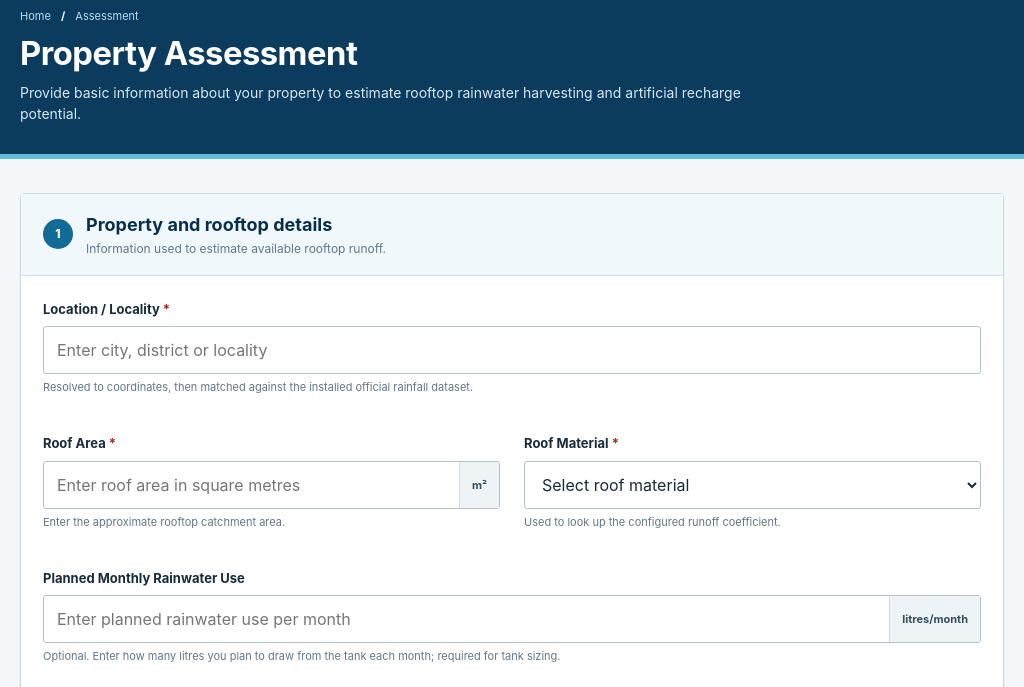
Test: property assessment form › shows a safe message when the API request fails
In the field labelled "Location / Locality *": coordinates (512, 350) [43, 326, 981, 374], type "Bengaluru"
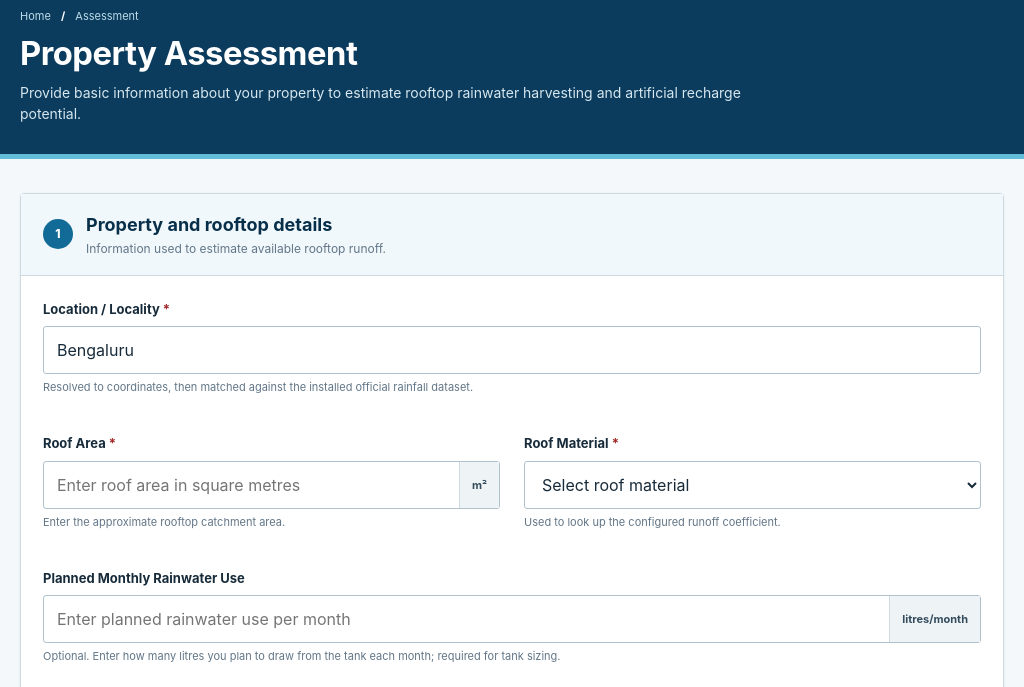
In the number field labelled "Roof Area *": coordinates (272, 485) [43, 461, 500, 509], type "120"
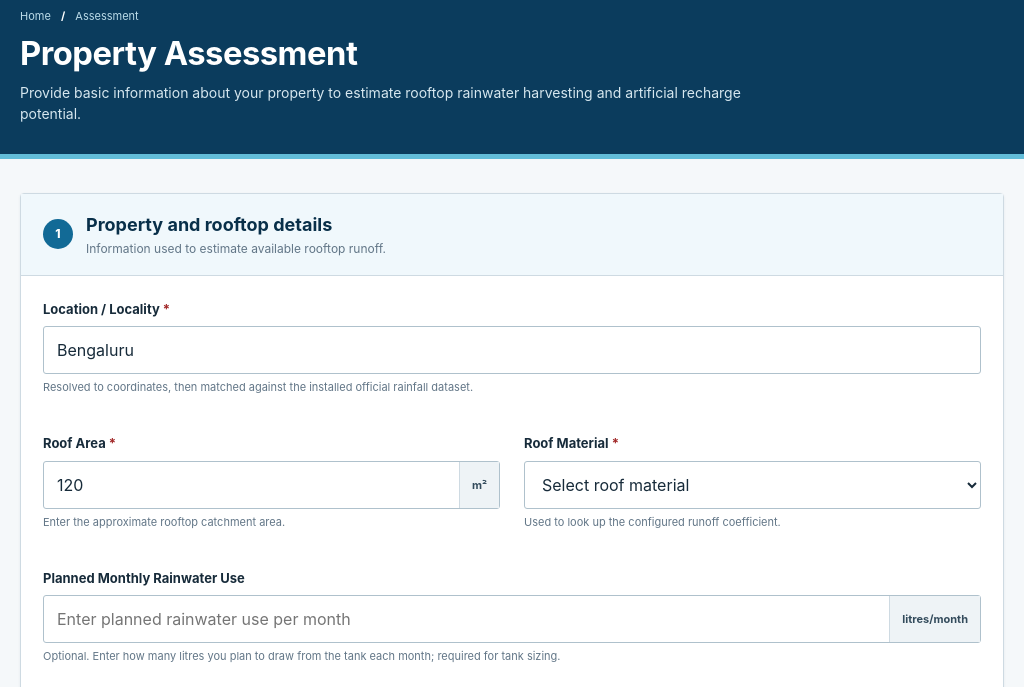
Select "RCC / Concrete" in the dropdown labelled "Roof Material *": coordinates (752, 485) [524, 461, 981, 509]
(page scrolled)
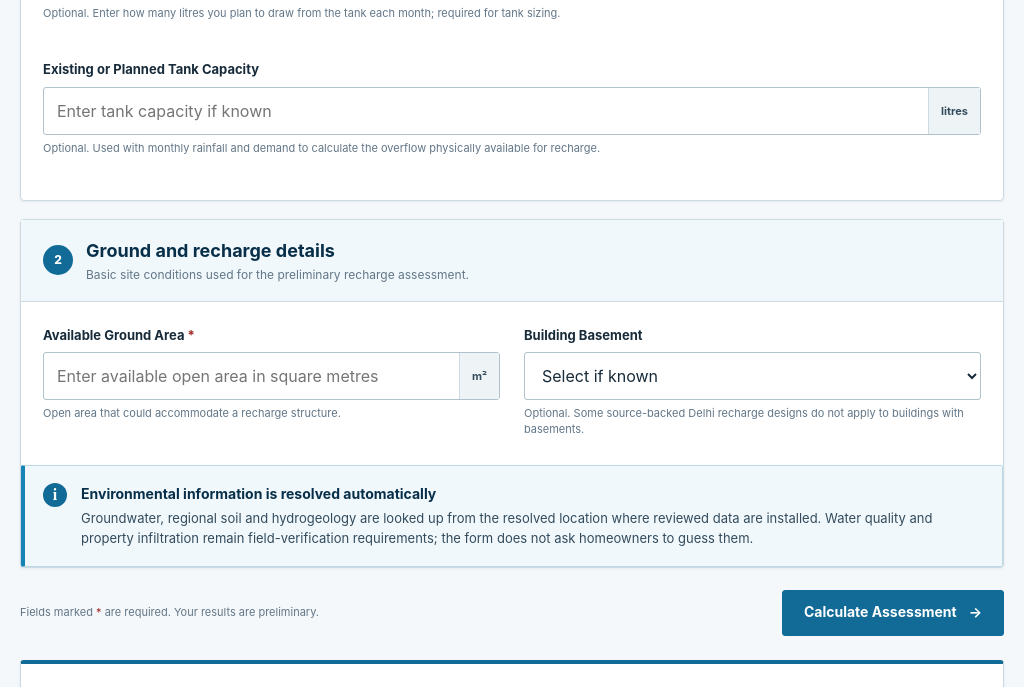
In the number field labelled "Available Ground Area *": coordinates (272, 376) [43, 352, 500, 400], type "15"
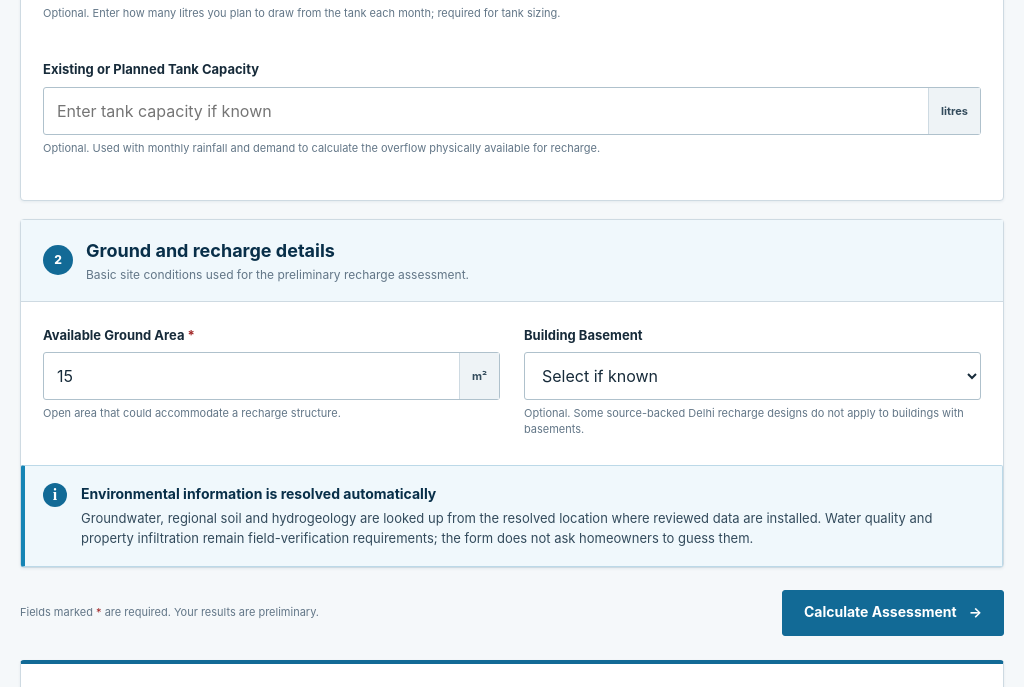
Click the button "Calculate Assessment →": coordinates (893, 613) [782, 590, 1004, 636]
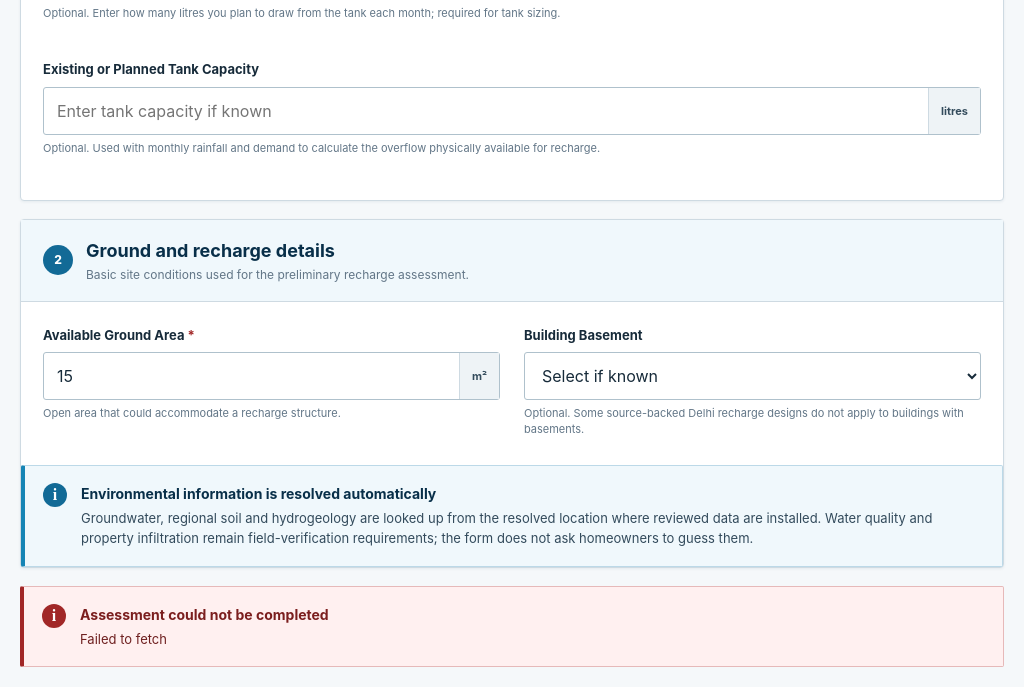
Check: the message does not show "TypeError", box [20, 586, 1004, 667]
Check: the message shows "Failed to fetch", box [80, 631, 167, 647]
